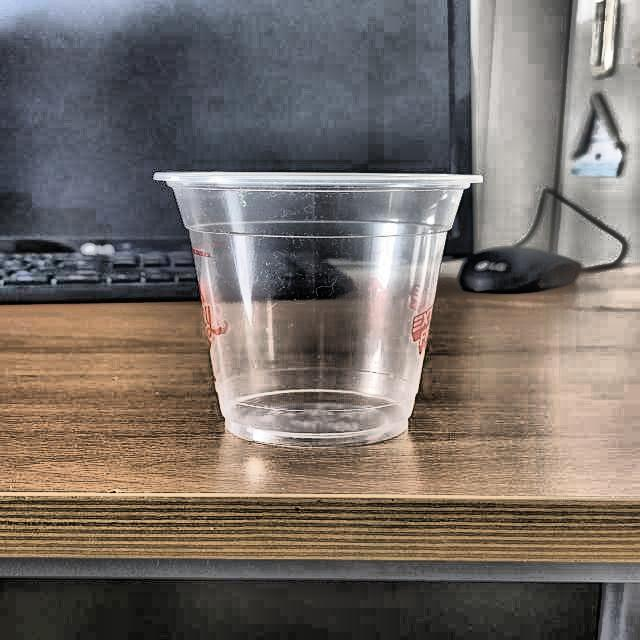plastic cup: (152, 169, 484, 444)
